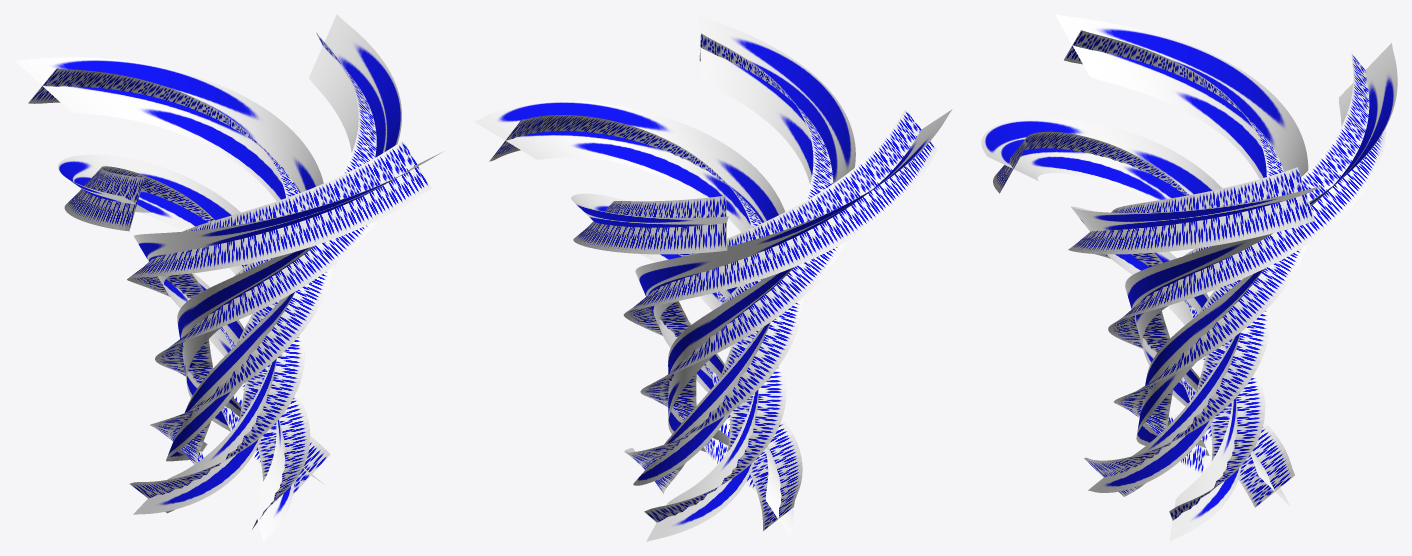
Rendered from nohin_efect.fbx.
3 views of the same model, side by side, from view 1: azimuth 30°, elevation 25°; view 2: azimuth 150°, elevation 25°; view 3: azimuth 270°, elevation 25° (orthographic).
Parts seen in each view (by area): view 1: nurbsToPoly17; view 2: nurbsToPoly17; view 3: nurbsToPoly17.
Part boxes in pixels (x1,y1,x2,y2): nurbsToPoly17: (14,14,443,541); nurbsToPoly17: (474,14,952,541); nurbsToPoly17: (981,14,1397,541).
Bounding box in the file's own units: 2.93 × 3.14 × 2.93.
